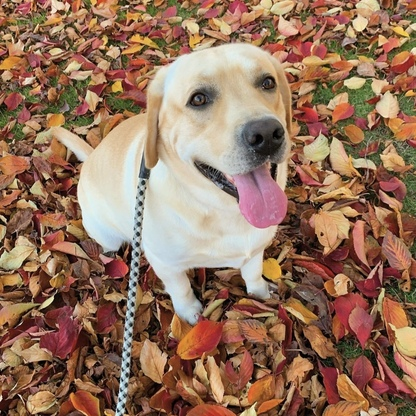labrado: (43, 39, 302, 328)
